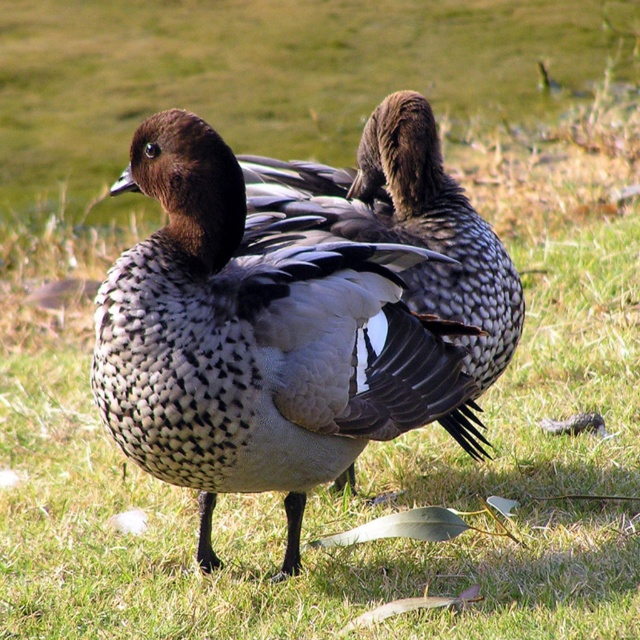Duck: (71, 84, 535, 592)
